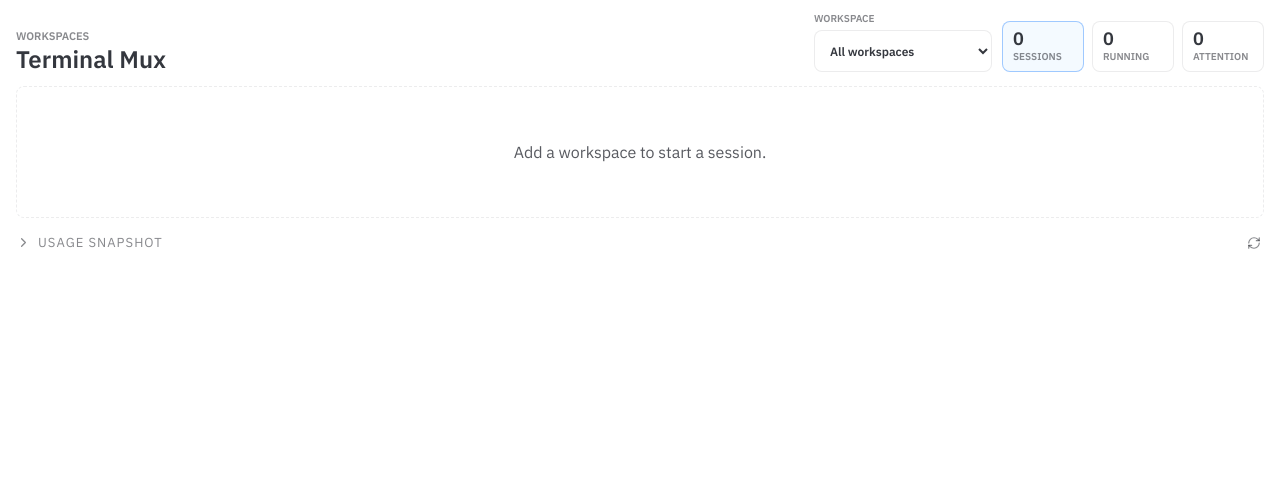
Test: Home › renders account limits even when no local usage snapshot exists
Click the button with aria-label "Show usage snapshot".
click(89, 242)  # box top-left (16, 230), bottom-right (163, 255)
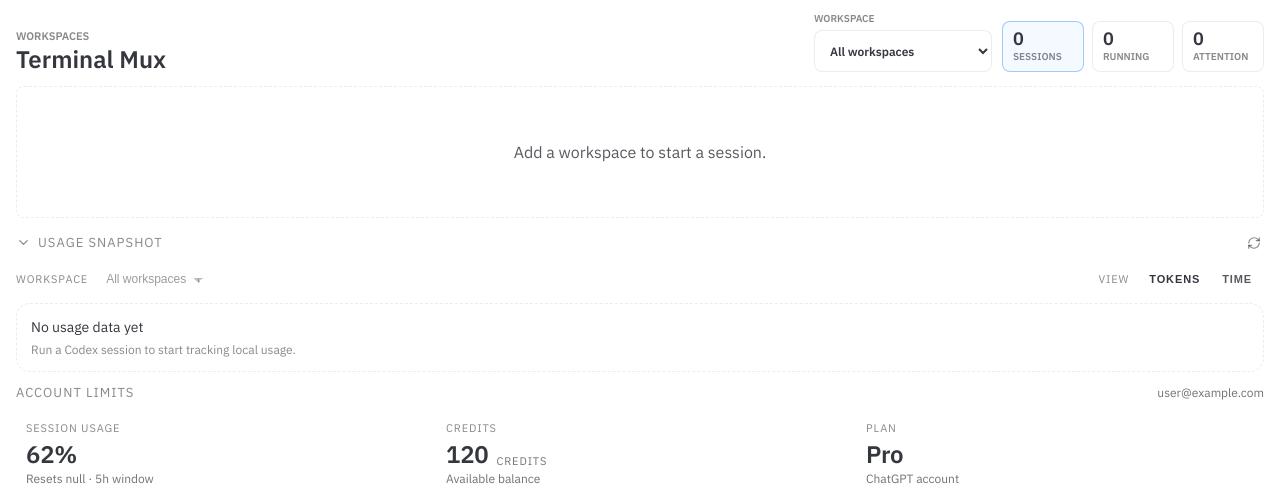
Expected: the text "Account limits" is shown, top-left (16, 384), bottom-right (134, 401)
Expected: the text "120" is shown, top-left (446, 441), bottom-right (488, 467)
Expected: the text "user@example.com" is shown, top-left (1157, 385), bottom-right (1264, 400)
